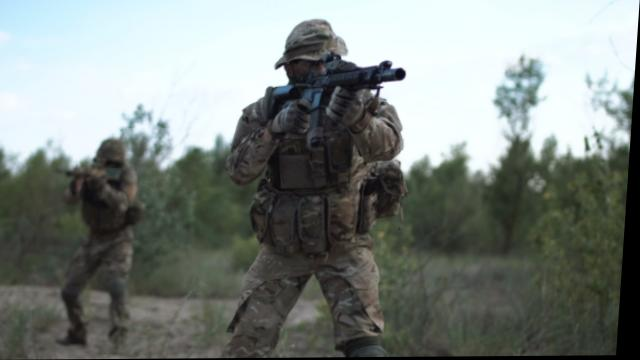other: (230, 28, 404, 354), (60, 145, 150, 339)
